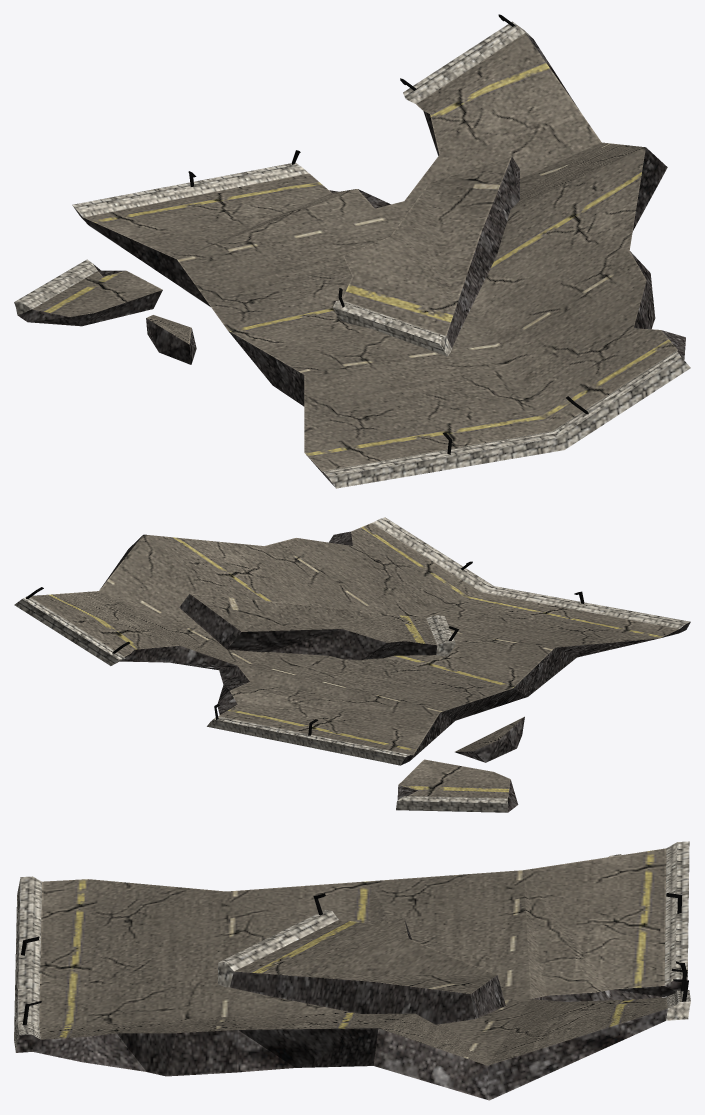
The model's file is HighWay_Damaged_02.fbx.
3 renders of one model, top to bottom at view 1: azimuth 30°, elevation 25°; view 2: azimuth 150°, elevation 25°; view 3: azimuth 270°, elevation 25°, orthographic. The views are drawn at different scales.
Visible parts, largest first — view 1: HighWay_Damaged_02; view 2: HighWay_Damaged_02; view 3: HighWay_Damaged_02.
Part boxes in pixels (x1,y1,x2,y2): HighWay_Damaged_02: (14,14,690,488); HighWay_Damaged_02: (14,517,690,812); HighWay_Damaged_02: (14,841,690,1100).
Bounding box in the file's own units: 2760 × 823 × 2594.
